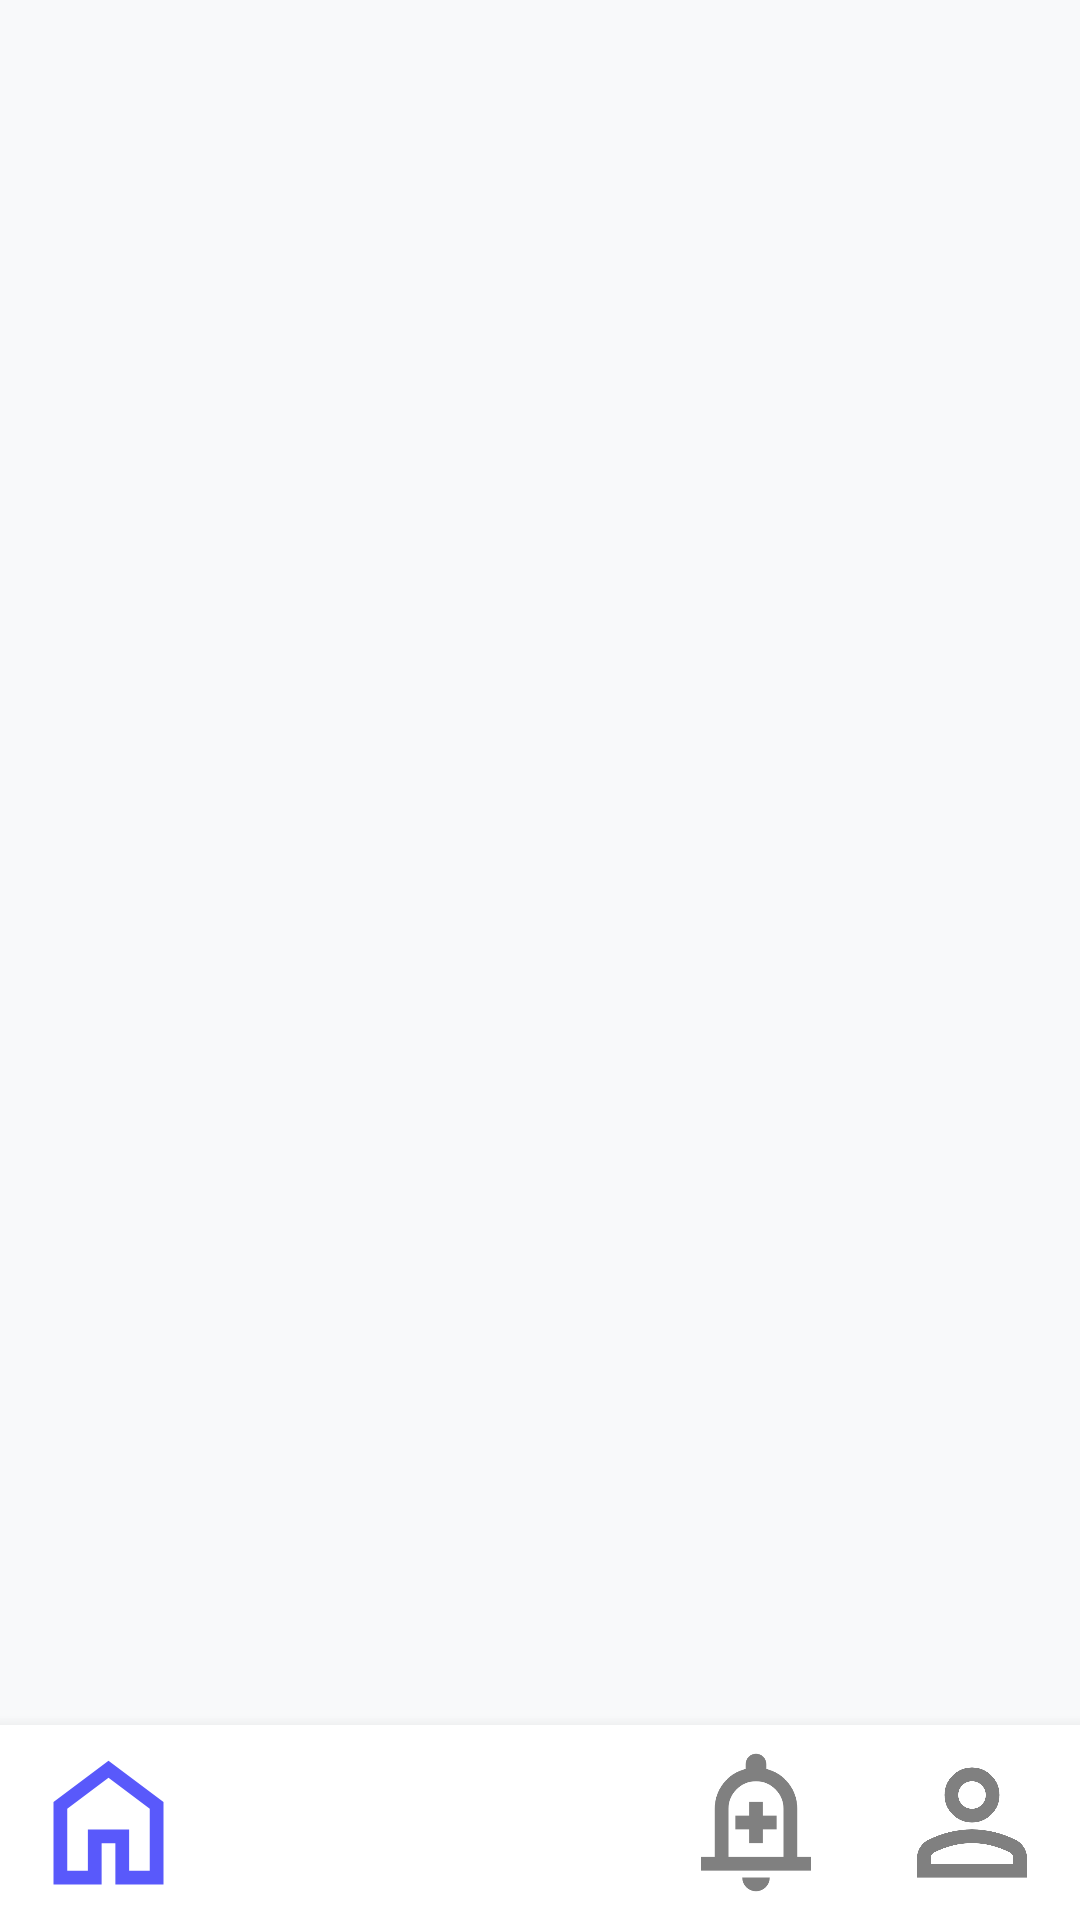

Point at icon controls on the screen. Image size 1080px×1920px, points as point (x, y).
home: point (108, 1823)
noti: point (756, 1822)
person: point (972, 1822)
